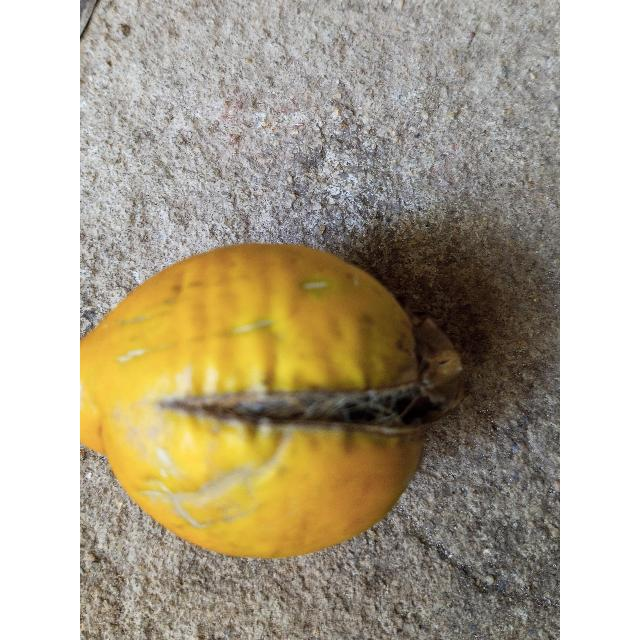damaged: (80, 244, 463, 562)
